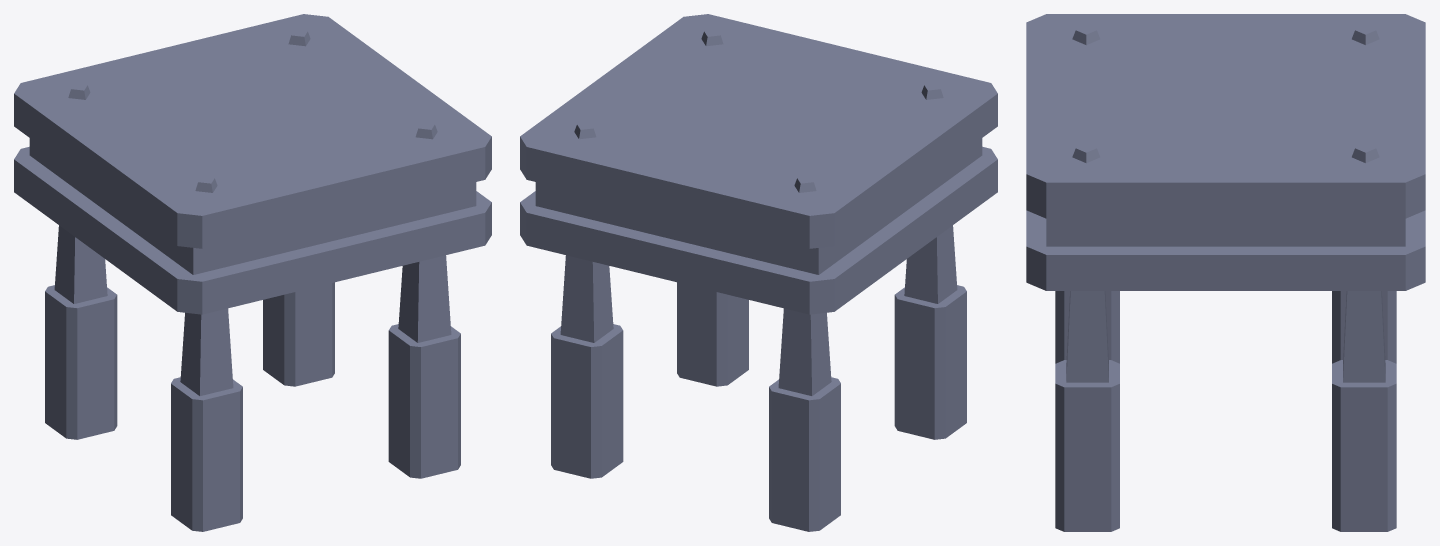
Rendered from structure-metal-floor.obj.
The picture shows the model from 3 angles, left to right: view 1: azimuth 30°, elevation 25°; view 2: azimuth 150°, elevation 25°; view 3: azimuth 270°, elevation 25°; orthographic projection. The views are drawn at different scales.
Size of the model in its own units: 0.5 by 0.5125 by 0.5.
